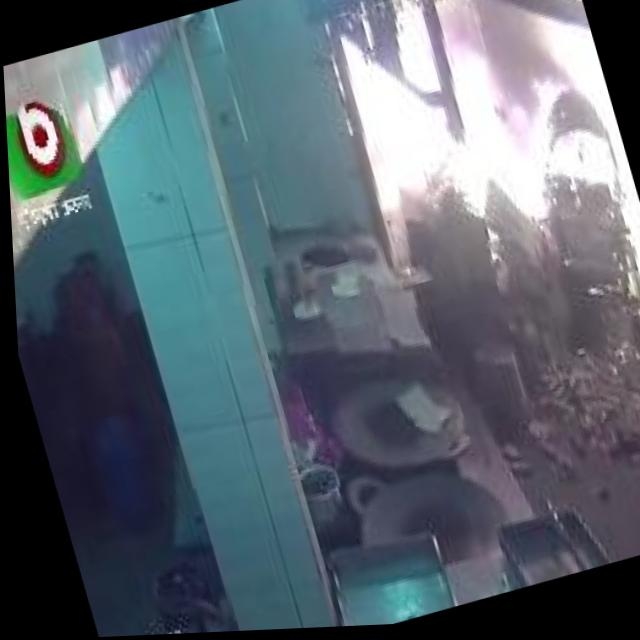fire: (334, 0, 605, 294), (487, 0, 640, 333)
